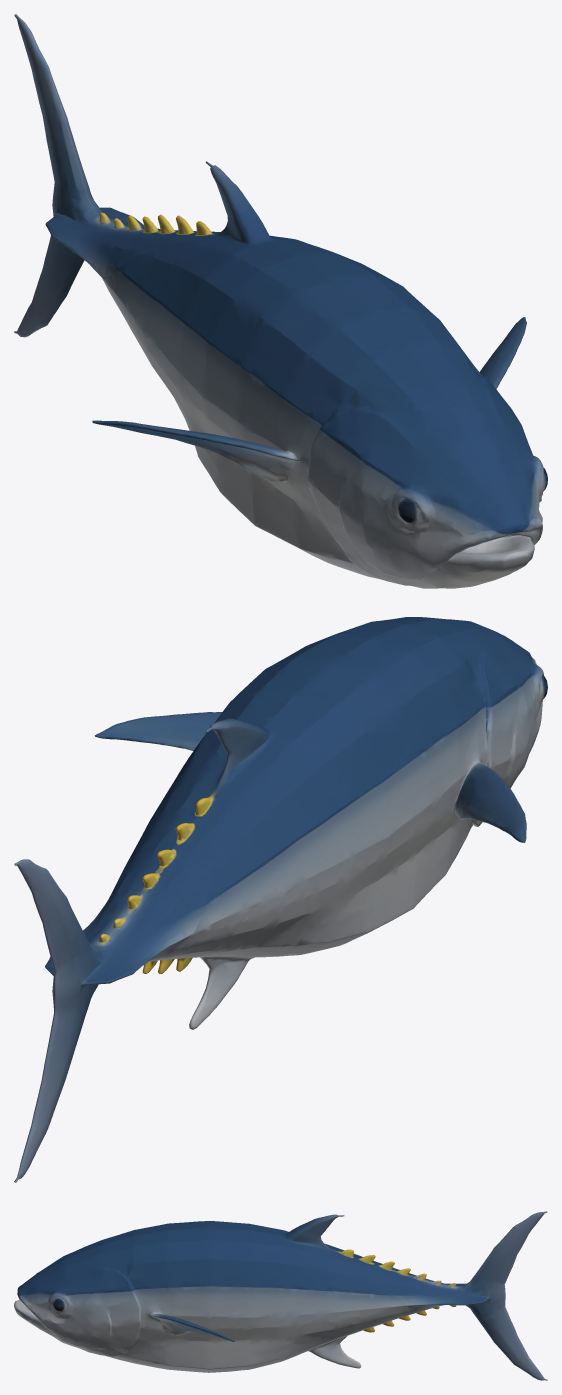
File: tuna.glb
3 views of the same model, one above another, from view 1: azimuth 30°, elevation 25°; view 2: azimuth 150°, elevation 25°; view 3: azimuth 270°, elevation 25° (orthographic). The views are drawn at different scales.
Parts seen in each view (by area): view 1: tripo_node_c9d96013-6784-4ede-bfa2-db2ec12a7322; view 2: tripo_node_c9d96013-6784-4ede-bfa2-db2ec12a7322; view 3: tripo_node_c9d96013-6784-4ede-bfa2-db2ec12a7322.
Part boxes in pixels (<box>): tripo_node_c9d96013-6784-4ede-bfa2-db2ec12a7322: <box>14,14,547,588</box>; tripo_node_c9d96013-6784-4ede-bfa2-db2ec12a7322: <box>14,617,547,1182</box>; tripo_node_c9d96013-6784-4ede-bfa2-db2ec12a7322: <box>14,1211,547,1380</box>.
Size of the model in its own units: 0.4955 by 0.3498 by 1.
Materials: 1 (1 with a texture image).
